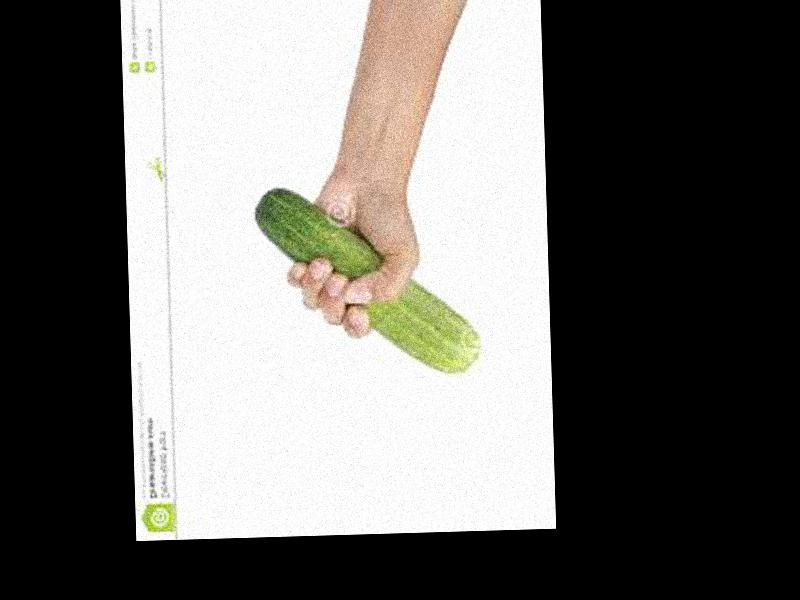Cucumber: (253, 177, 479, 378)
